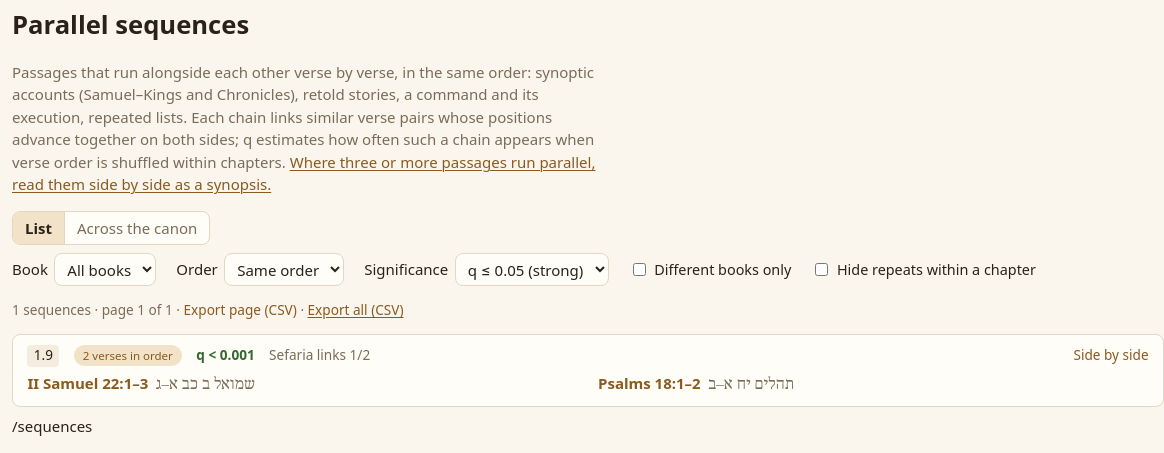
Test: SequencesPage › lists chains with q ≤ 0.05 by default and puts filters in the URL
This screenshot has width=1164, height=453.
Expected: the link "II Samuel 22:1–3שמואל ב כב א–ג" is shown, [27,373,255,393]
Expected: the text "q < 0.001" is shown, [196,345,255,366]
Click the checkbox labelled "Different books only".
click(639, 270)  # box [633,263,646,276]
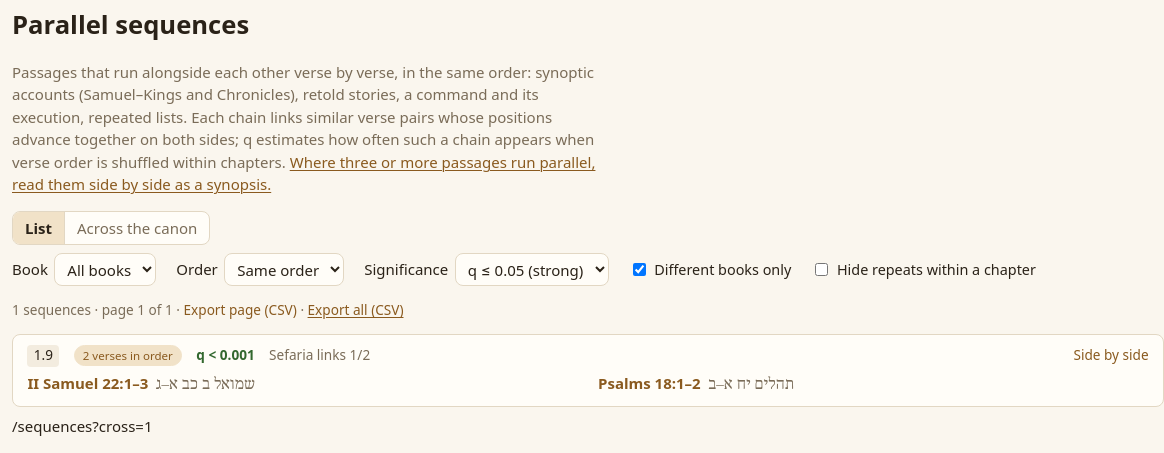
Expected: the text with test id "loc" reads "/sequences?cross=1", [12,416,152,436]
